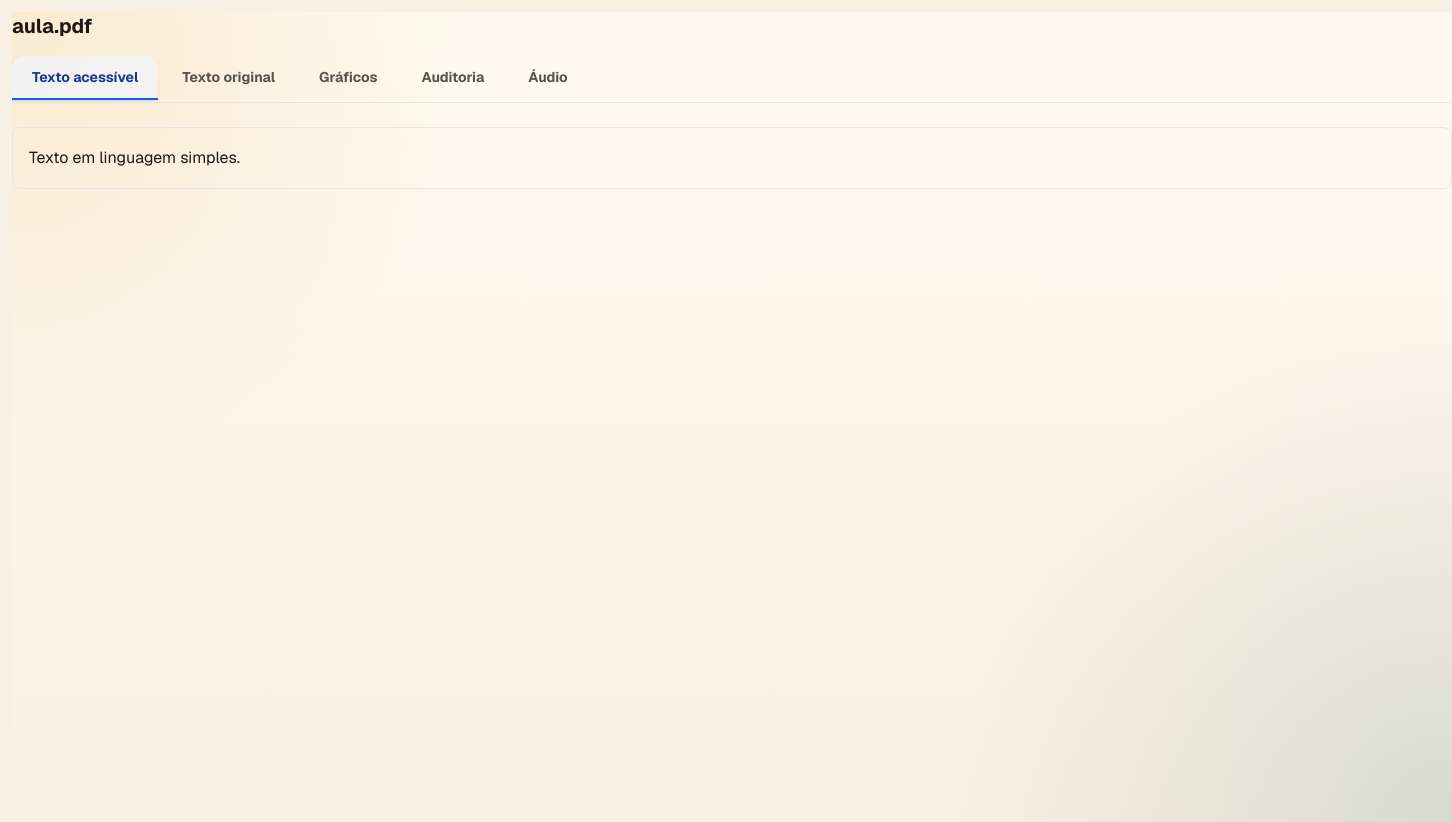
Test: MaterialResult › says when the material has no audio yet
Click the tab "Áudio". click: (548, 78)
box: x1=508 y1=56 x2=588 y2=100
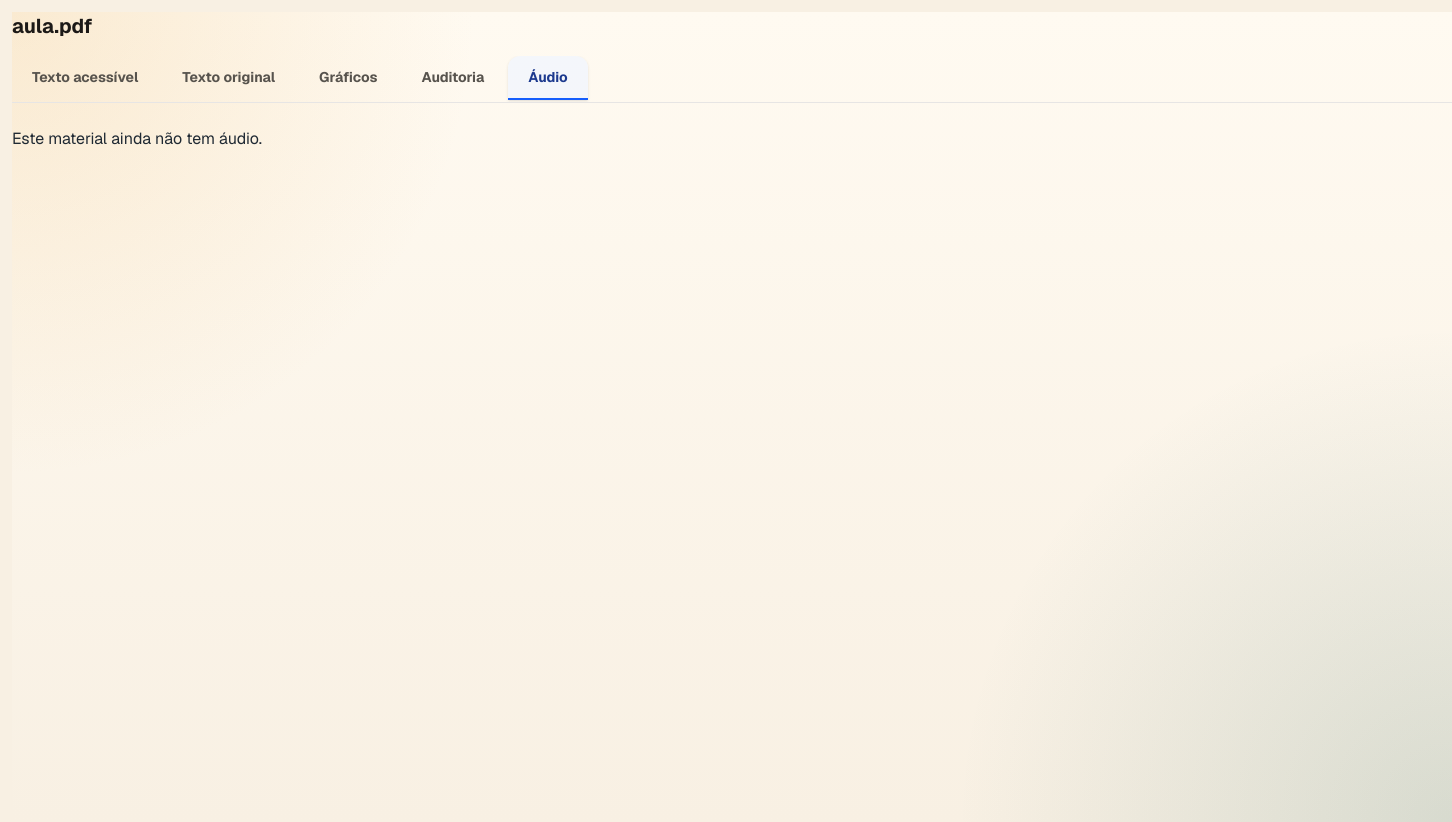
Now the panel reads "Este material ainda não tem áudio.", box x1=12 y1=128 x2=262 y2=149
